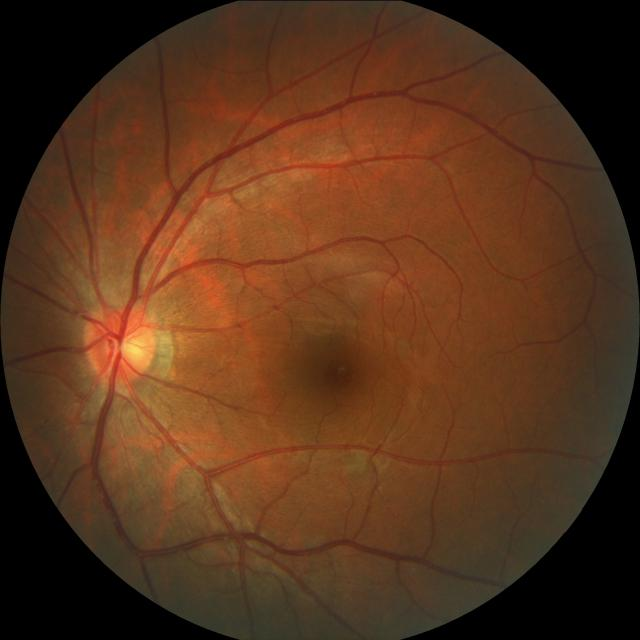OC: (109, 328, 140, 363)
OD: (83, 303, 158, 384)
